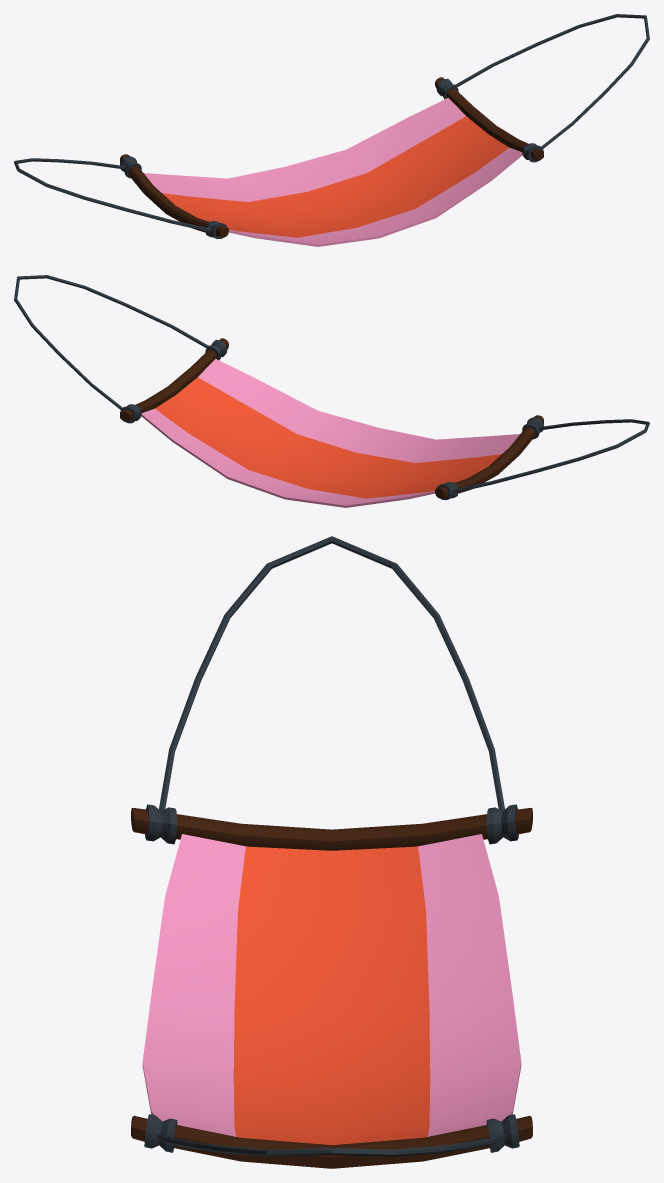
Rendered from Hammock.fbx.
3 renders of one model, top to bottom at view 1: azimuth 30°, elevation 25°; view 2: azimuth 150°, elevation 25°; view 3: azimuth 270°, elevation 25°, orthographic. The views are drawn at different scales.
Parts seen in each view (by area): view 1: Hammock; view 2: Hammock; view 3: Hammock.
Boxes of the visible parts, x1,y1,x2,y2 form: Hammock: (14,14,649,246); Hammock: (14,275,649,507); Hammock: (131,536,532,1168).
Size of the model in its own units: 399 by 74.74 by 110.
